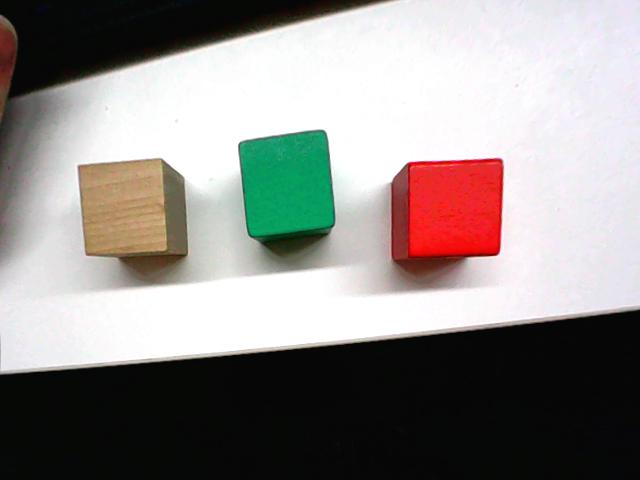green_box: (235, 125, 338, 245)
raw_box: (75, 154, 190, 261)
red_box: (387, 153, 507, 264)
